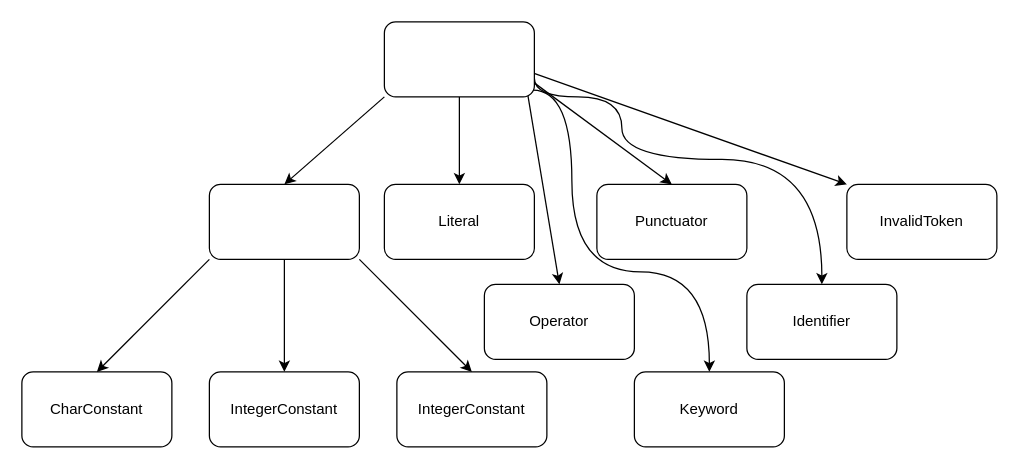
The diagram is 1019 pixels wide and 469 high, and some of its shapes have lost their labels. Each missing label, with the centre of its shape:
"Constant" goes at [283,221].
"Token" goes at [458,59].
